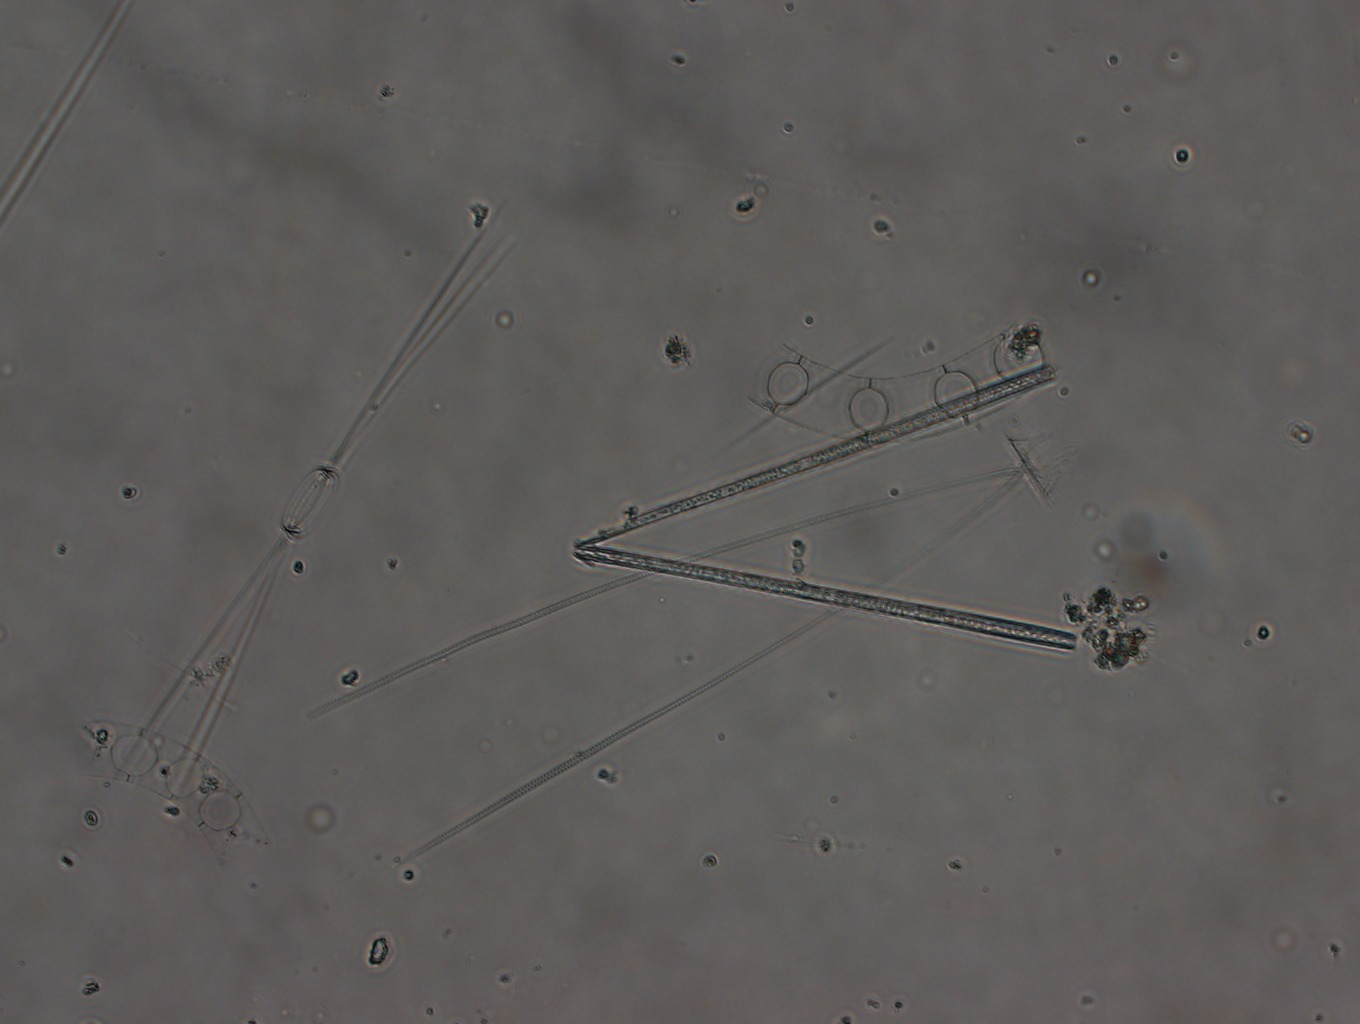chaetoceros: (113, 205, 515, 800)
eucampia: (751, 315, 1063, 451), (69, 709, 266, 865)
thalassionema frauenfeldii: (567, 362, 1083, 660)
